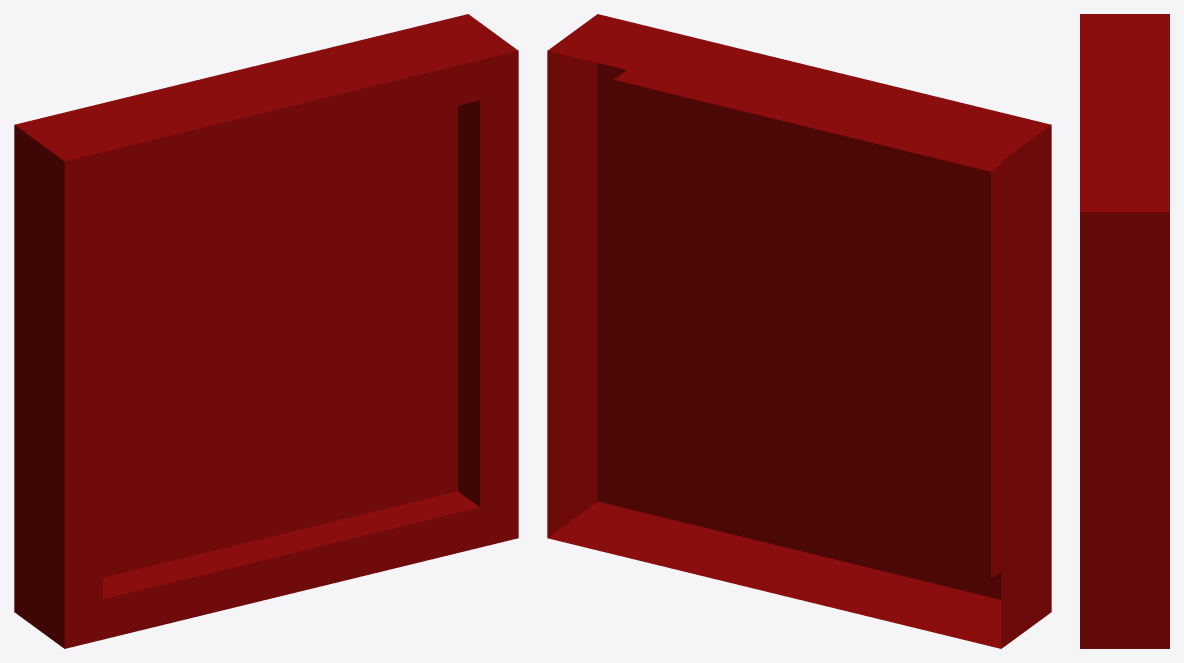
Rendered from DecoMur5.FBX.
The picture shows the model from 3 angles, left to right: view 1: azimuth 30°, elevation 25°; view 2: azimuth 150°, elevation 25°; view 3: azimuth 270°, elevation 25°; orthographic projection. The views are drawn at different scales.
Parts seen in each view (by area): view 1: cadre_D; view 2: cadre_D; view 3: cadre_D.
Boxes of the visible parts, <box> form: cadre_D: <box>14,14,518,648</box>; cadre_D: <box>547,14,1051,648</box>; cadre_D: <box>1080,14,1169,648</box>.
Bounding box in the file's own units: 0.4578 × 0.0877 × 0.4699.
